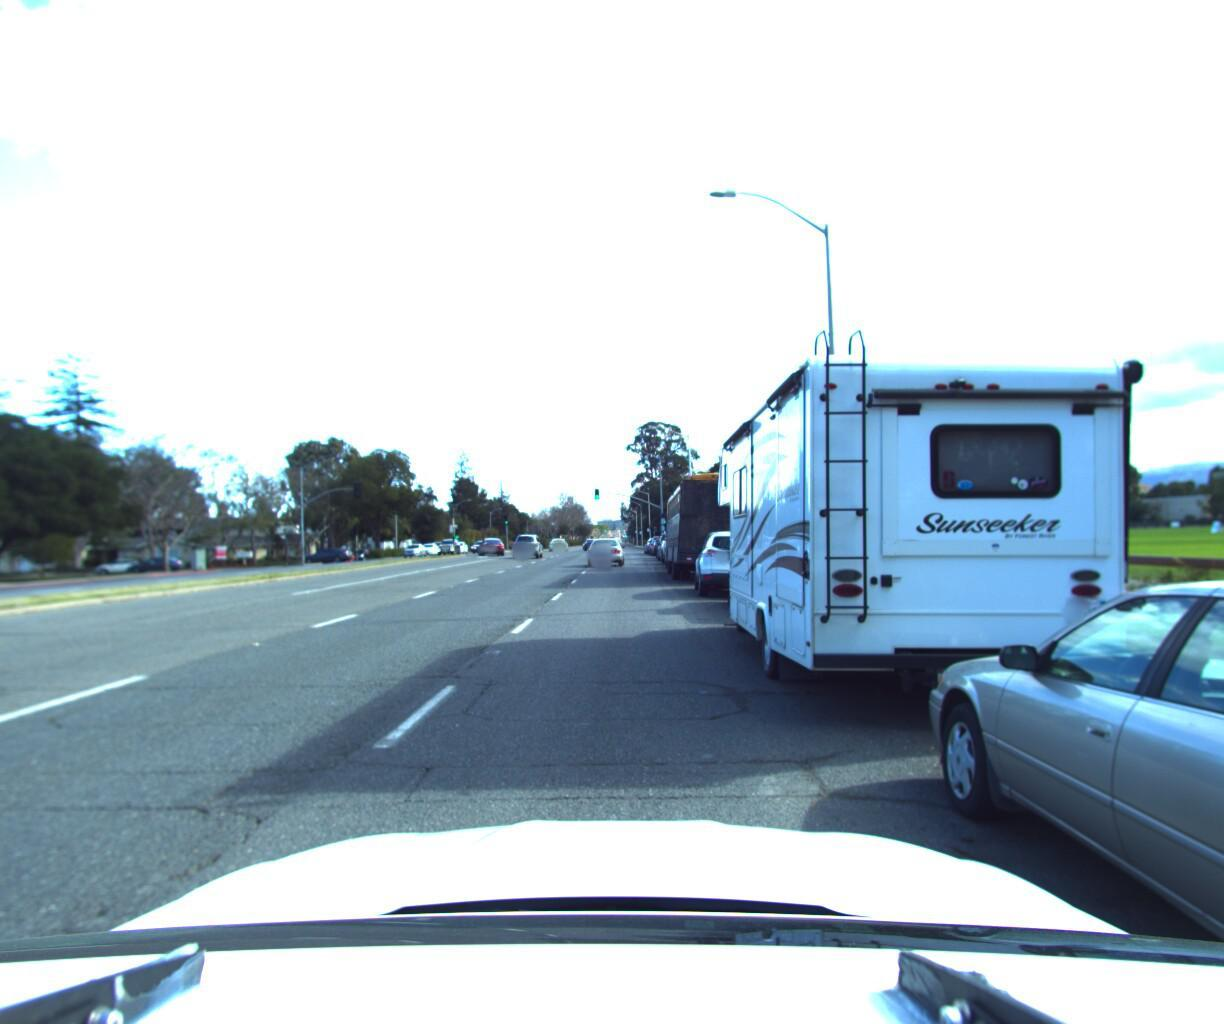bus: (663, 467, 767, 582)
car: (904, 546, 1224, 1024), (694, 524, 785, 596), (125, 553, 186, 576), (298, 537, 354, 560), (584, 533, 623, 564), (510, 529, 544, 556), (474, 534, 502, 557)
other_vehicle: (711, 297, 1178, 738)
